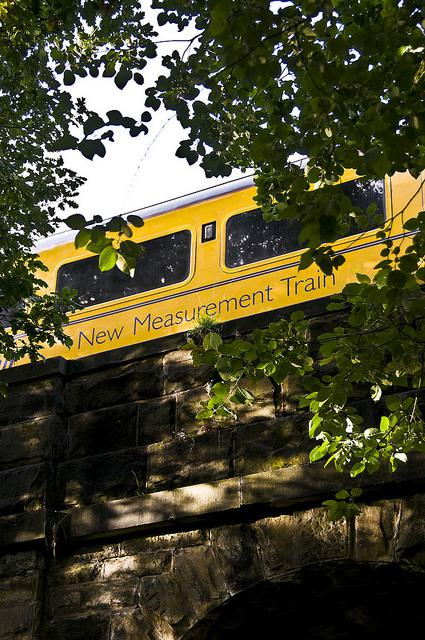Train: (0, 152, 425, 368)
